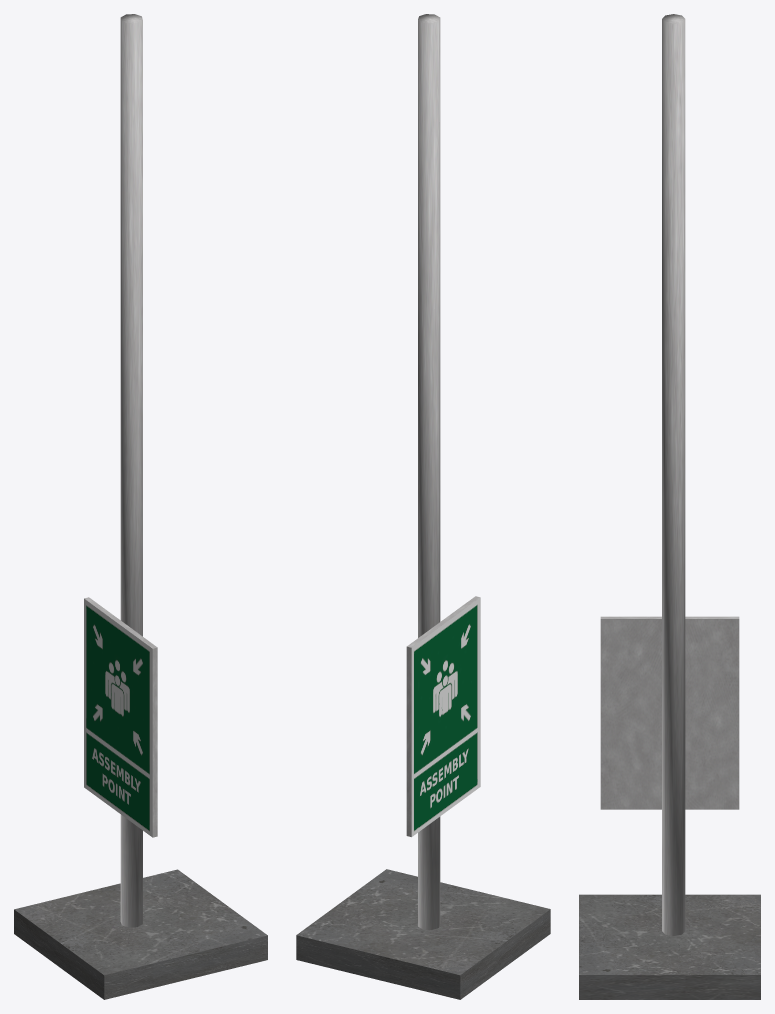
Rendered from Assemble pointupdated 02.fbx.
3 renders of one model, left to right at view 1: azimuth 30°, elevation 25°; view 2: azimuth 150°, elevation 25°; view 3: azimuth 270°, elevation 25°, orthographic.
Visible parts, largest first — view 1: Board; view 2: Board; view 3: Board.
Part boxes in pixels (<box>): Board: <box>14,14,267,999</box>; Board: <box>296,14,550,999</box>; Board: <box>579,14,760,999</box>.
Size of the model in its own units: 1122 by 1070 by 6125.
1 material, 1 textured.
